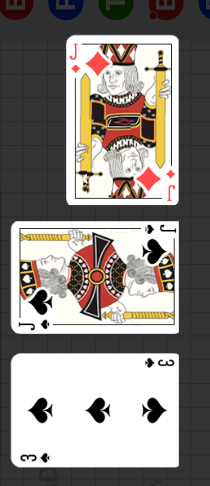3S: (142, 357, 175, 370)
JD: (67, 42, 81, 77)
JS: (130, 222, 177, 266), (10, 289, 56, 333)
